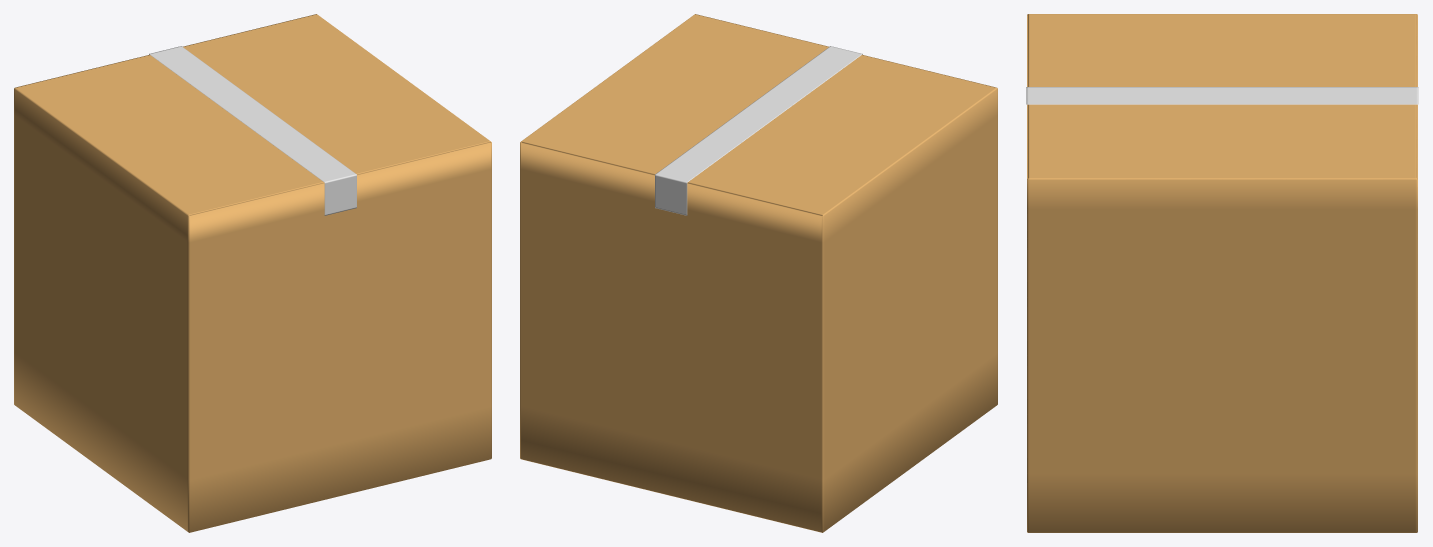
File: asset.glb
3 views of the same model, side by side, from view 1: azimuth 30°, elevation 25°; view 2: azimuth 150°, elevation 25°; view 3: azimuth 270°, elevation 25° (orthographic). The views are drawn at different scales.
Parts seen in each view (by area): view 1: Caixa; view 2: Caixa; view 3: Caixa.
Part boxes in pixels (x1,y1,x2,y2): Caixa: (14,14,491,532); Caixa: (520,14,997,532); Caixa: (1026,14,1418,532).
Bounding box in the file's own units: 7.5 × 7.51 × 7.52.
